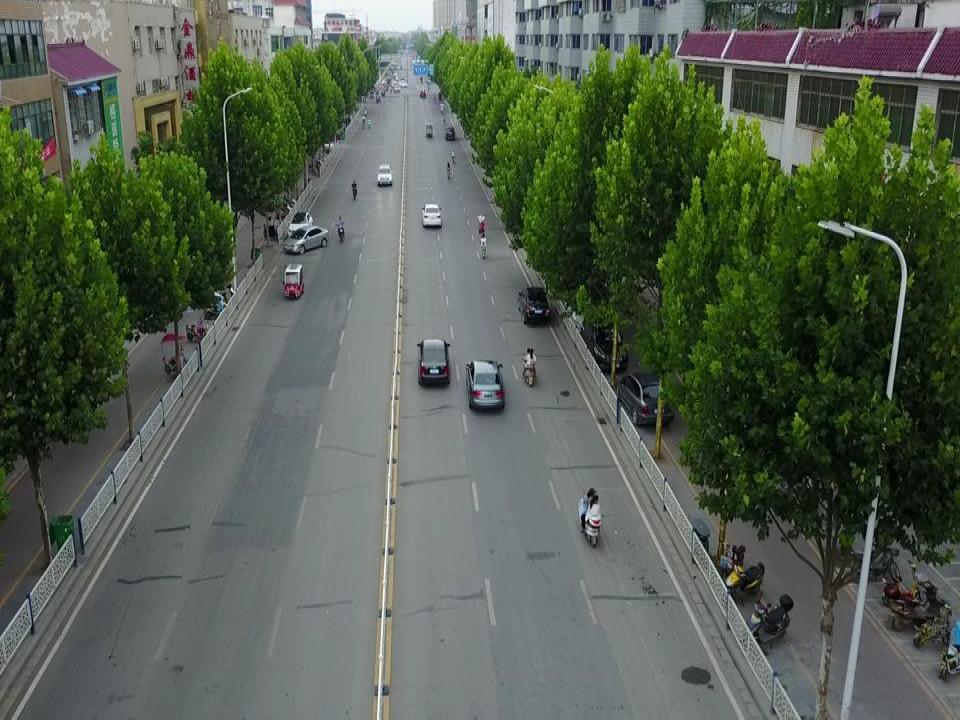car: (617, 368, 673, 431), (463, 353, 507, 416), (589, 312, 629, 375), (415, 336, 453, 391), (282, 221, 331, 256), (517, 280, 550, 324), (287, 206, 312, 243), (373, 160, 395, 191), (422, 199, 441, 228), (319, 135, 335, 153), (443, 124, 457, 140), (306, 160, 320, 176), (419, 88, 427, 97), (394, 85, 401, 92), (401, 82, 408, 86)
